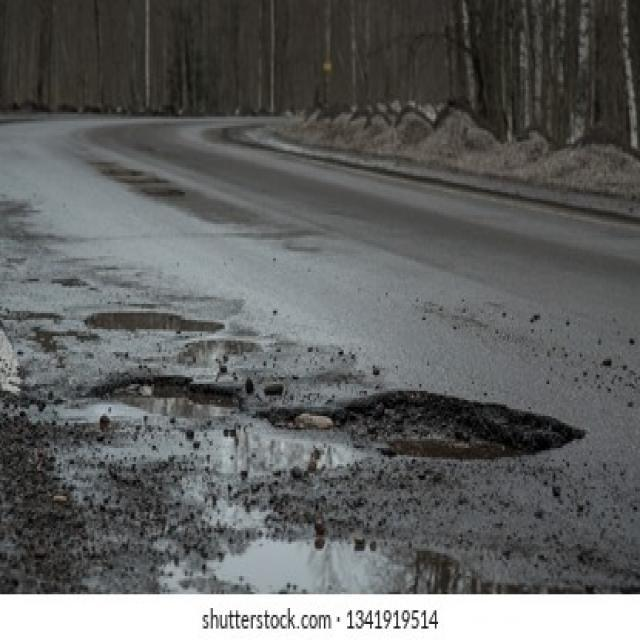Pothole: (266, 384, 590, 469), (83, 368, 247, 421)
